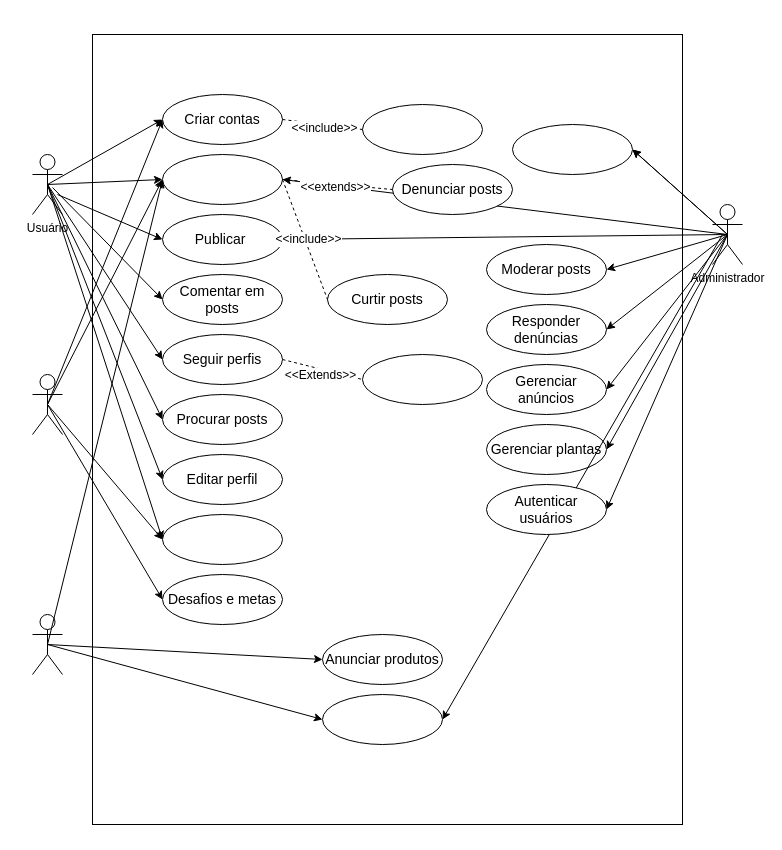
This 782x850 diagram has some shape labels left out. Here are the shapes that lost their labels. From the top down, the box of each, then its label:
(362, 104, 482, 154): Login sistema
(512, 124, 632, 174): Remover contas
(162, 154, 282, 204): Visualizar posts
(362, 354, 482, 404): Denunciar perfis
(32, 374, 62, 434): Visitante
(162, 514, 282, 564): Fóruns de discussão
(32, 614, 62, 674): Fornecedor
(322, 694, 442, 744): Visualizar anúncios
